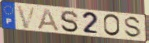2: (80, 11, 102, 36)
A: (37, 8, 62, 32)
O: (103, 14, 122, 38)
S: (59, 10, 80, 34), (123, 16, 142, 39)
V: (16, 5, 38, 30)
